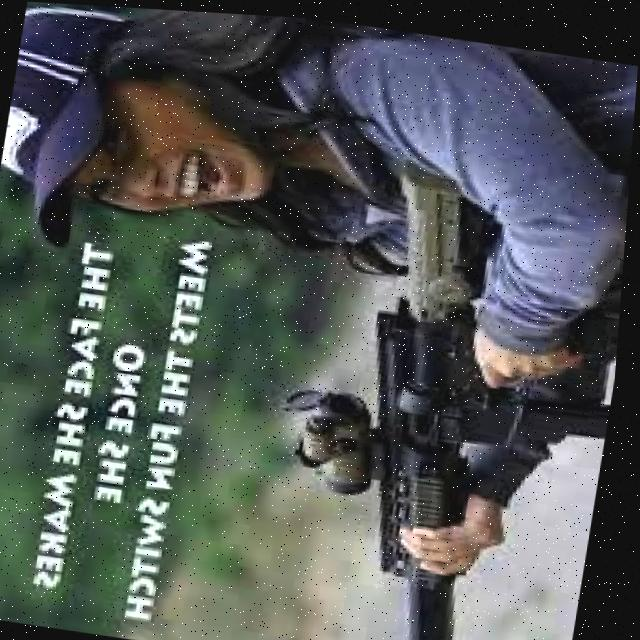firearm: (244, 133, 633, 640)
